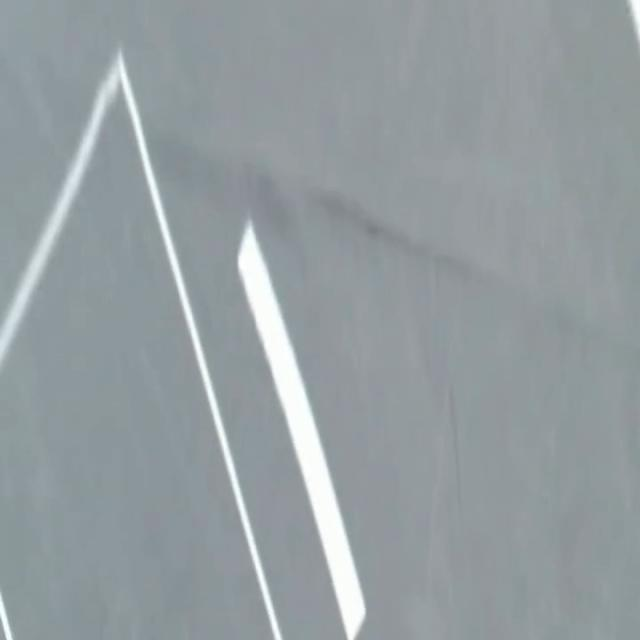center: (238, 222, 364, 639)
